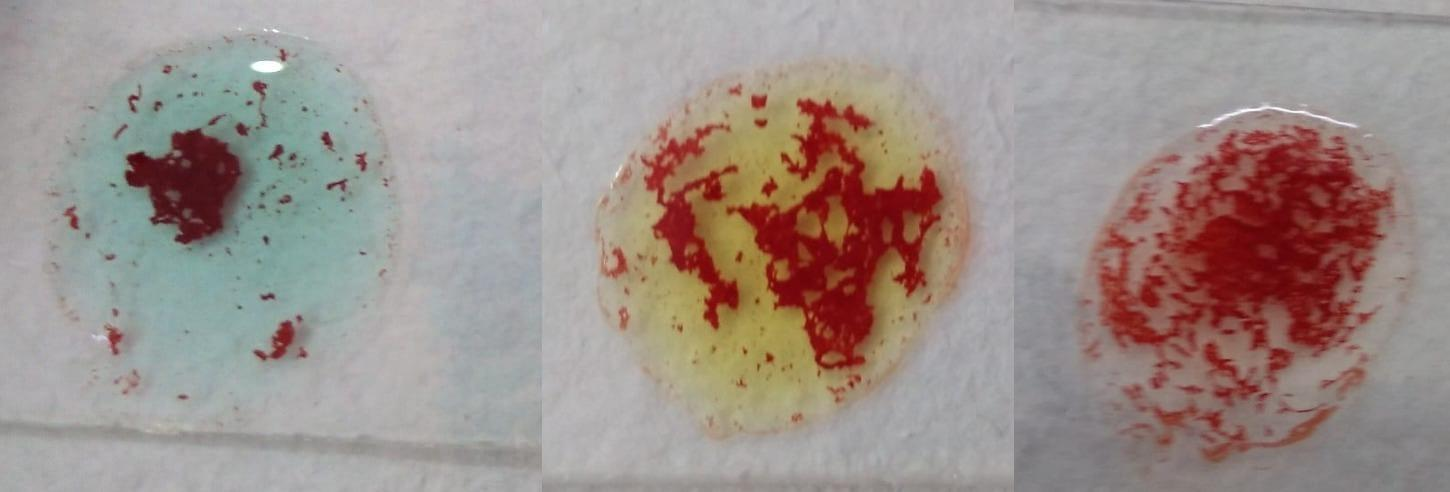A: (49, 20, 381, 407)
B: (594, 53, 961, 437)
D: (1074, 99, 1411, 466)
